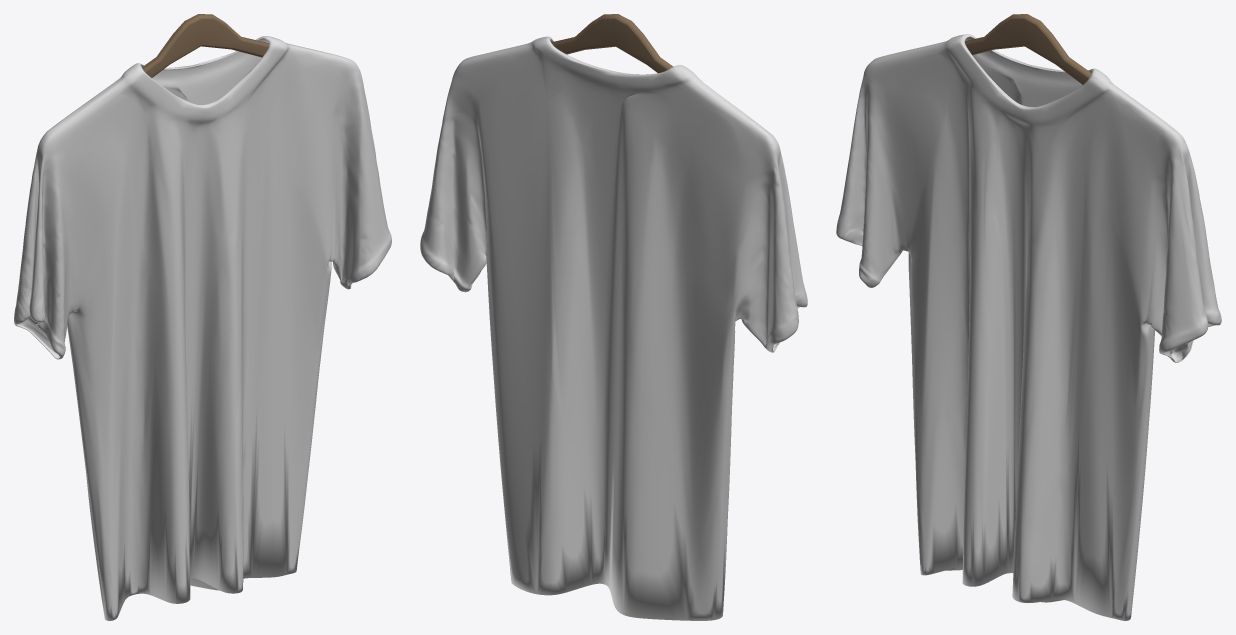
The model's file is tee.glb.
3 renders of one model, left to right at view 1: azimuth 30°, elevation 25°; view 2: azimuth 150°, elevation 25°; view 3: azimuth 330°, elevation 25°, orthographic.
Parts seen in each view (by area): view 1: GarmentFabric, HangerShoulders; view 2: GarmentFabric, HangerShoulders; view 3: GarmentFabric, HangerShoulders.
Part boxes in pixels (left/top/right/bottom): GarmentFabric: left=14, top=36, right=391, bottom=620; HangerShoulders: left=142, top=14, right=269, bottom=77; GarmentFabric: left=420, top=36, right=807, bottom=620; HangerShoulders: left=551, top=14, right=673, bottom=72; GarmentFabric: left=836, top=34, right=1221, bottom=620; HangerShoulders: left=965, top=14, right=1091, bottom=84.
Size of the model in its own units: 1.88 by 2.84 by 0.374.
